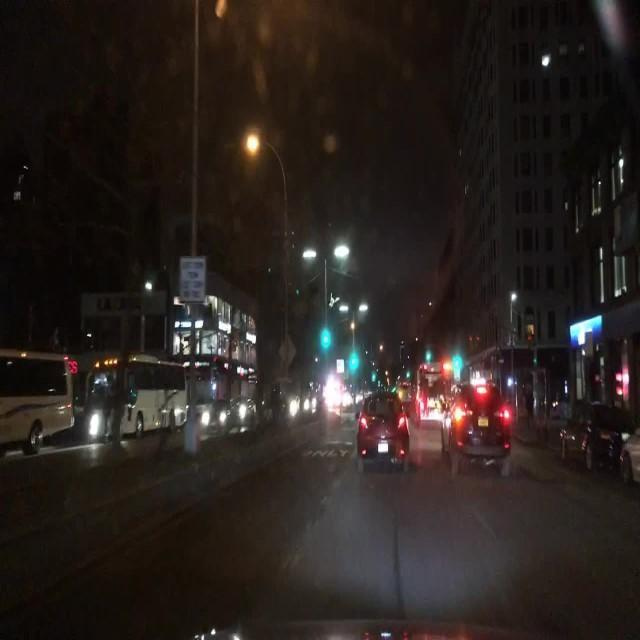normal: (0, 346, 76, 455), (555, 401, 635, 471), (355, 390, 409, 465)
